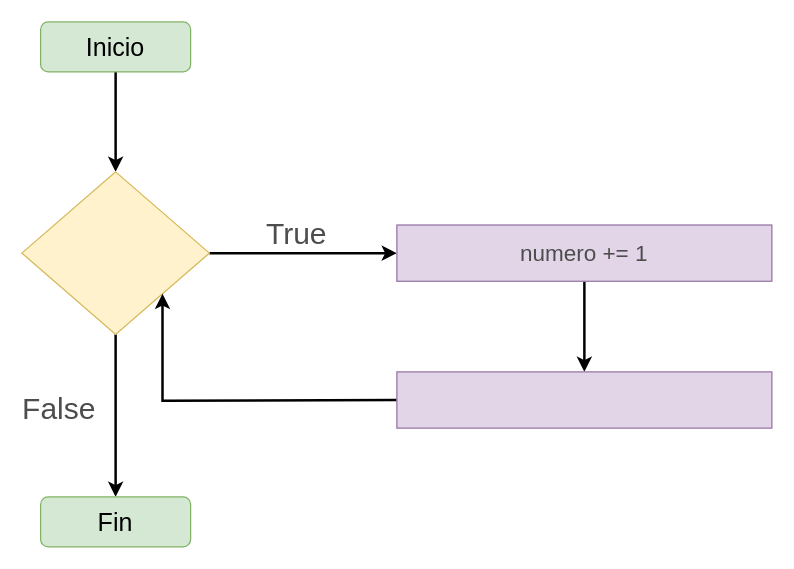
The diagram is 794 pixels wide and 569 high, and some of its shapes have lost their labels. Each missing label, with the centre of its shape:
numero < 5: point (115, 252)
print(f"El número es { numero }"): point (584, 399)
